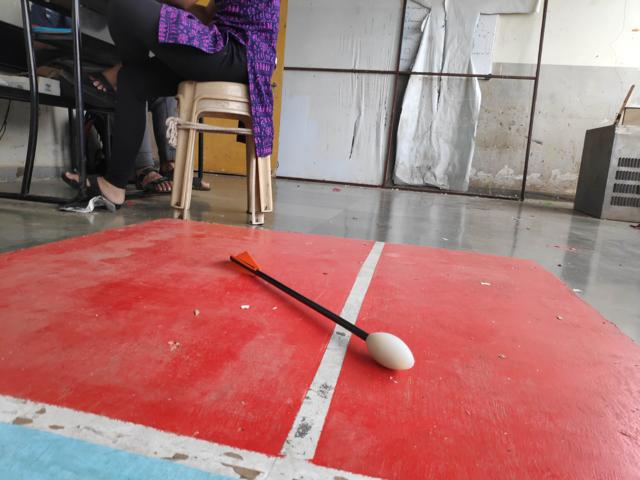Head: (362, 329, 417, 371)
Tail: (227, 248, 262, 277)
